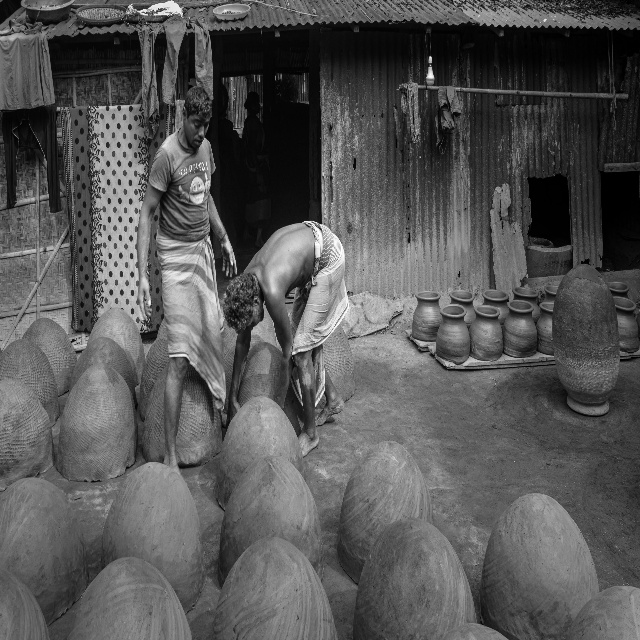Sin_guantes: (137, 277, 153, 321), (220, 240, 237, 278), (228, 397, 240, 422)
